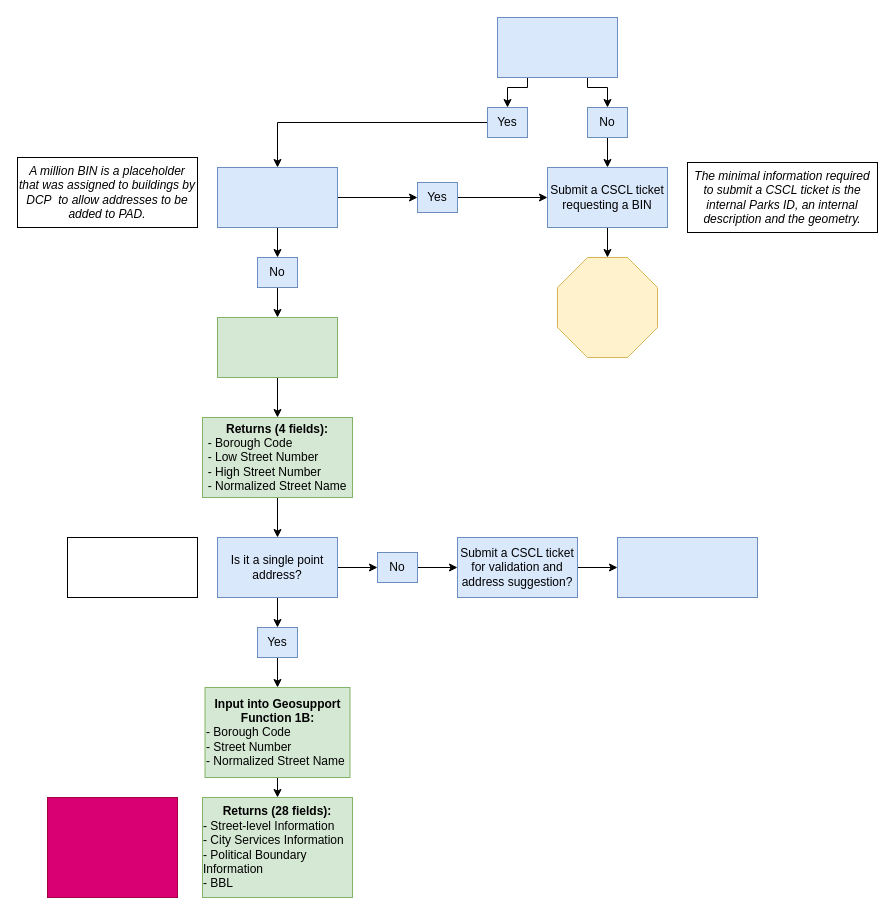
Some shapes in this 895 by 915 pixel diagram are drawn without their labels. The box of each missing label's shape, as (x1, y1, x2, y2) in pixels:
Are the low house numbers and high house numbers equal?: (66, 536, 198, 598)
Does the Parks structure have a BIN in DoITT Building footprints?: (496, 16, 618, 78)
Does the structure have a million BIN in DoITT Building Footprints?: (216, 166, 338, 228)
Input into Geosupport Function BIN: - BIN: (216, 316, 338, 378)
No technical step remaining: (556, 256, 658, 358)
Street Level includes: TO COMPLETE: (46, 796, 178, 898)
Submit form to Borough President's Topographic Bureau to request an address: (616, 536, 758, 598)
